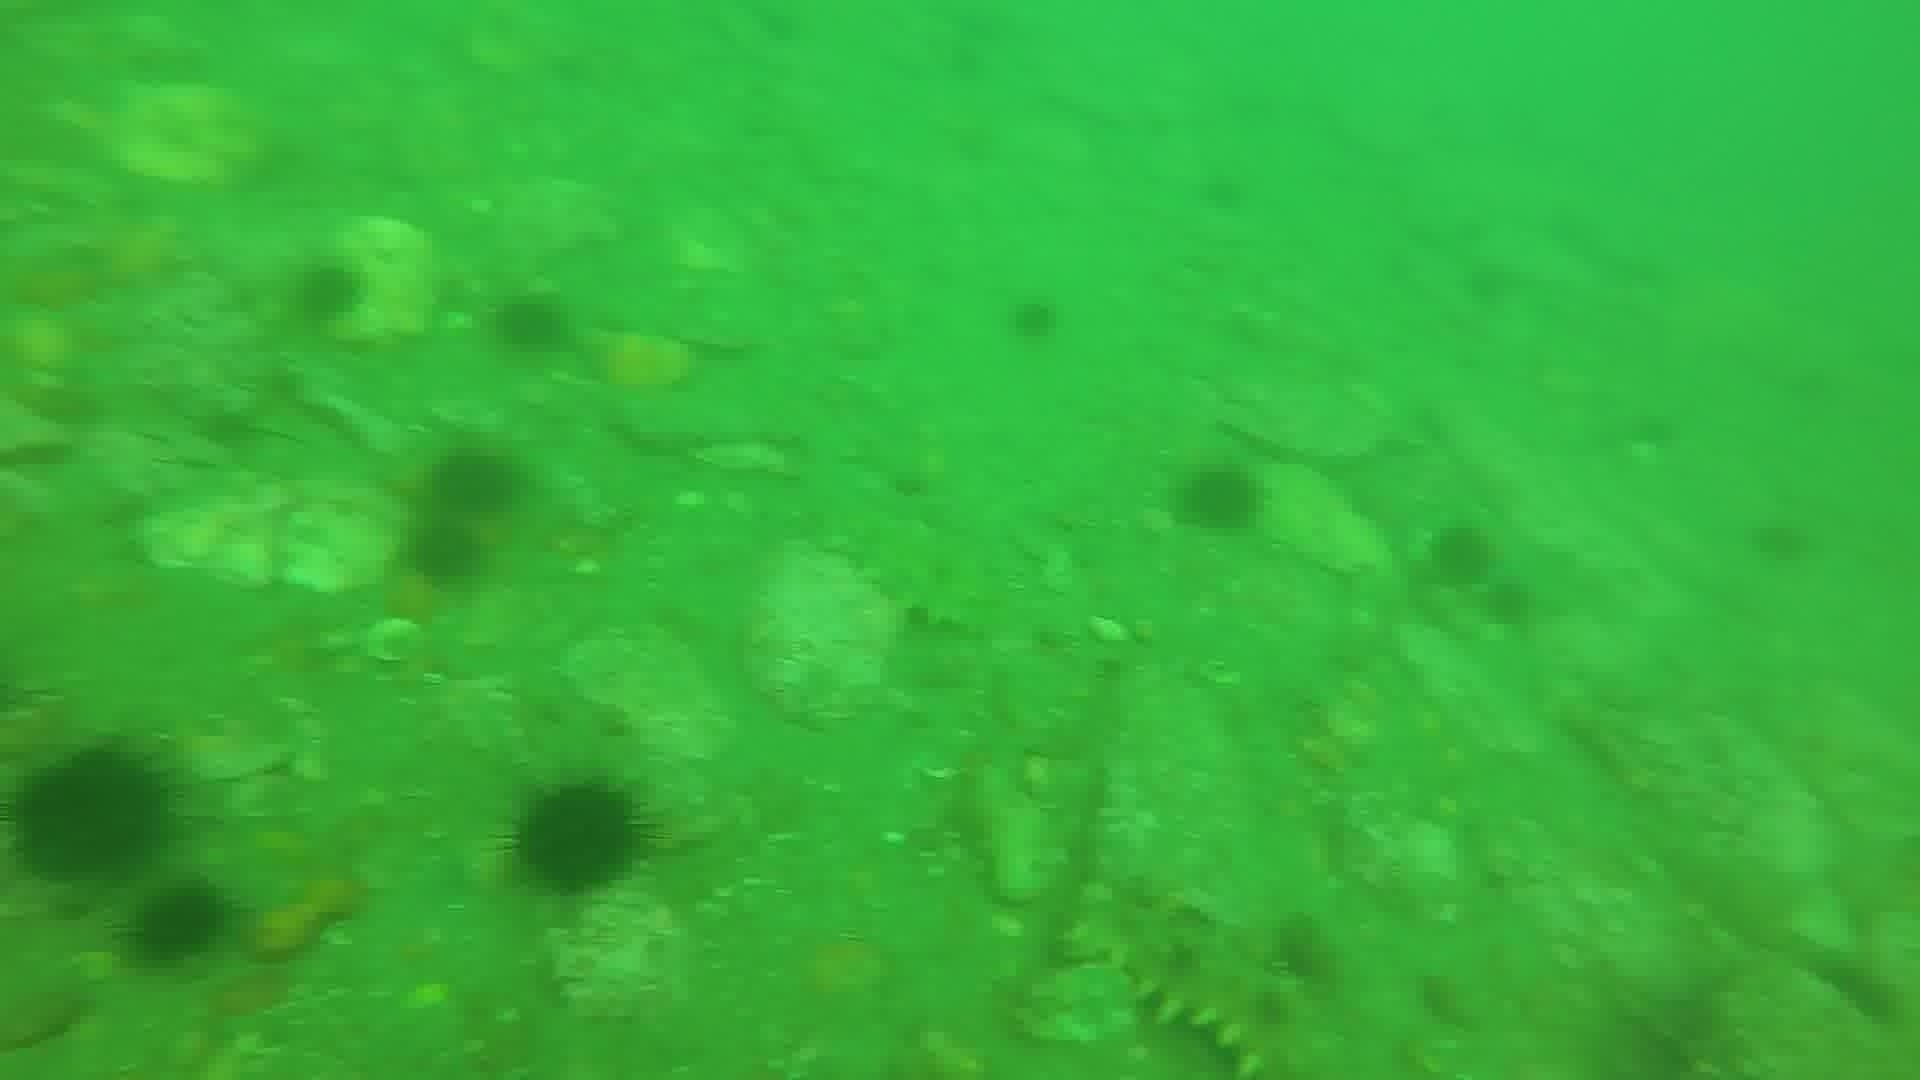echinus: (9, 742, 177, 885), (504, 777, 650, 899), (127, 880, 229, 967), (426, 444, 524, 520), (1172, 460, 1267, 537), (402, 517, 487, 589), (488, 290, 572, 359), (287, 257, 367, 328), (1423, 520, 1499, 591), (1746, 512, 1817, 570), (1476, 576, 1539, 632), (1004, 291, 1065, 345)
holothurian: (1062, 881, 1321, 1077), (814, 491, 996, 636)
starfish: (371, 567, 451, 632)
